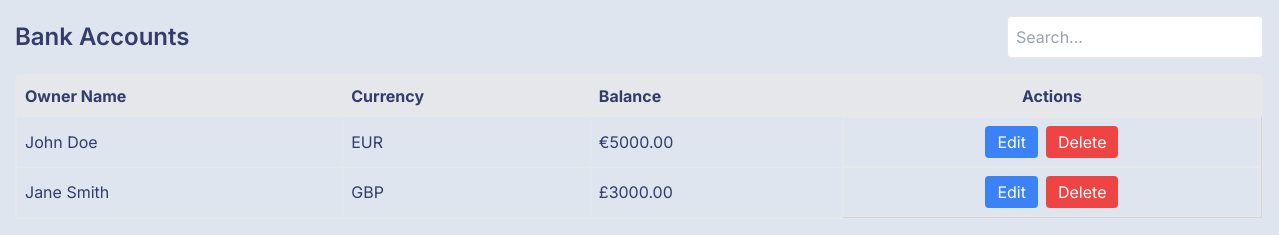
Scenario: AccountList Component › should filter accounts based on search input
Type "John" into the field with placeholder "Search..." at point(1135, 37), box [1007, 16, 1263, 58]
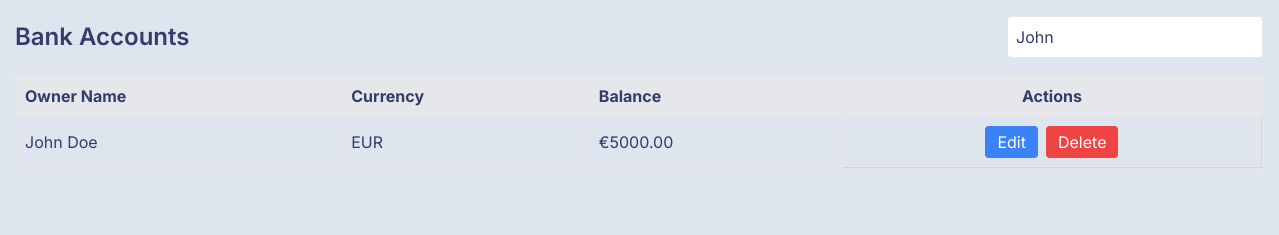
Expected: the text "John Doe" is shown, [25, 132, 98, 152]
Expected: the text "Jane Smith" is not shown
